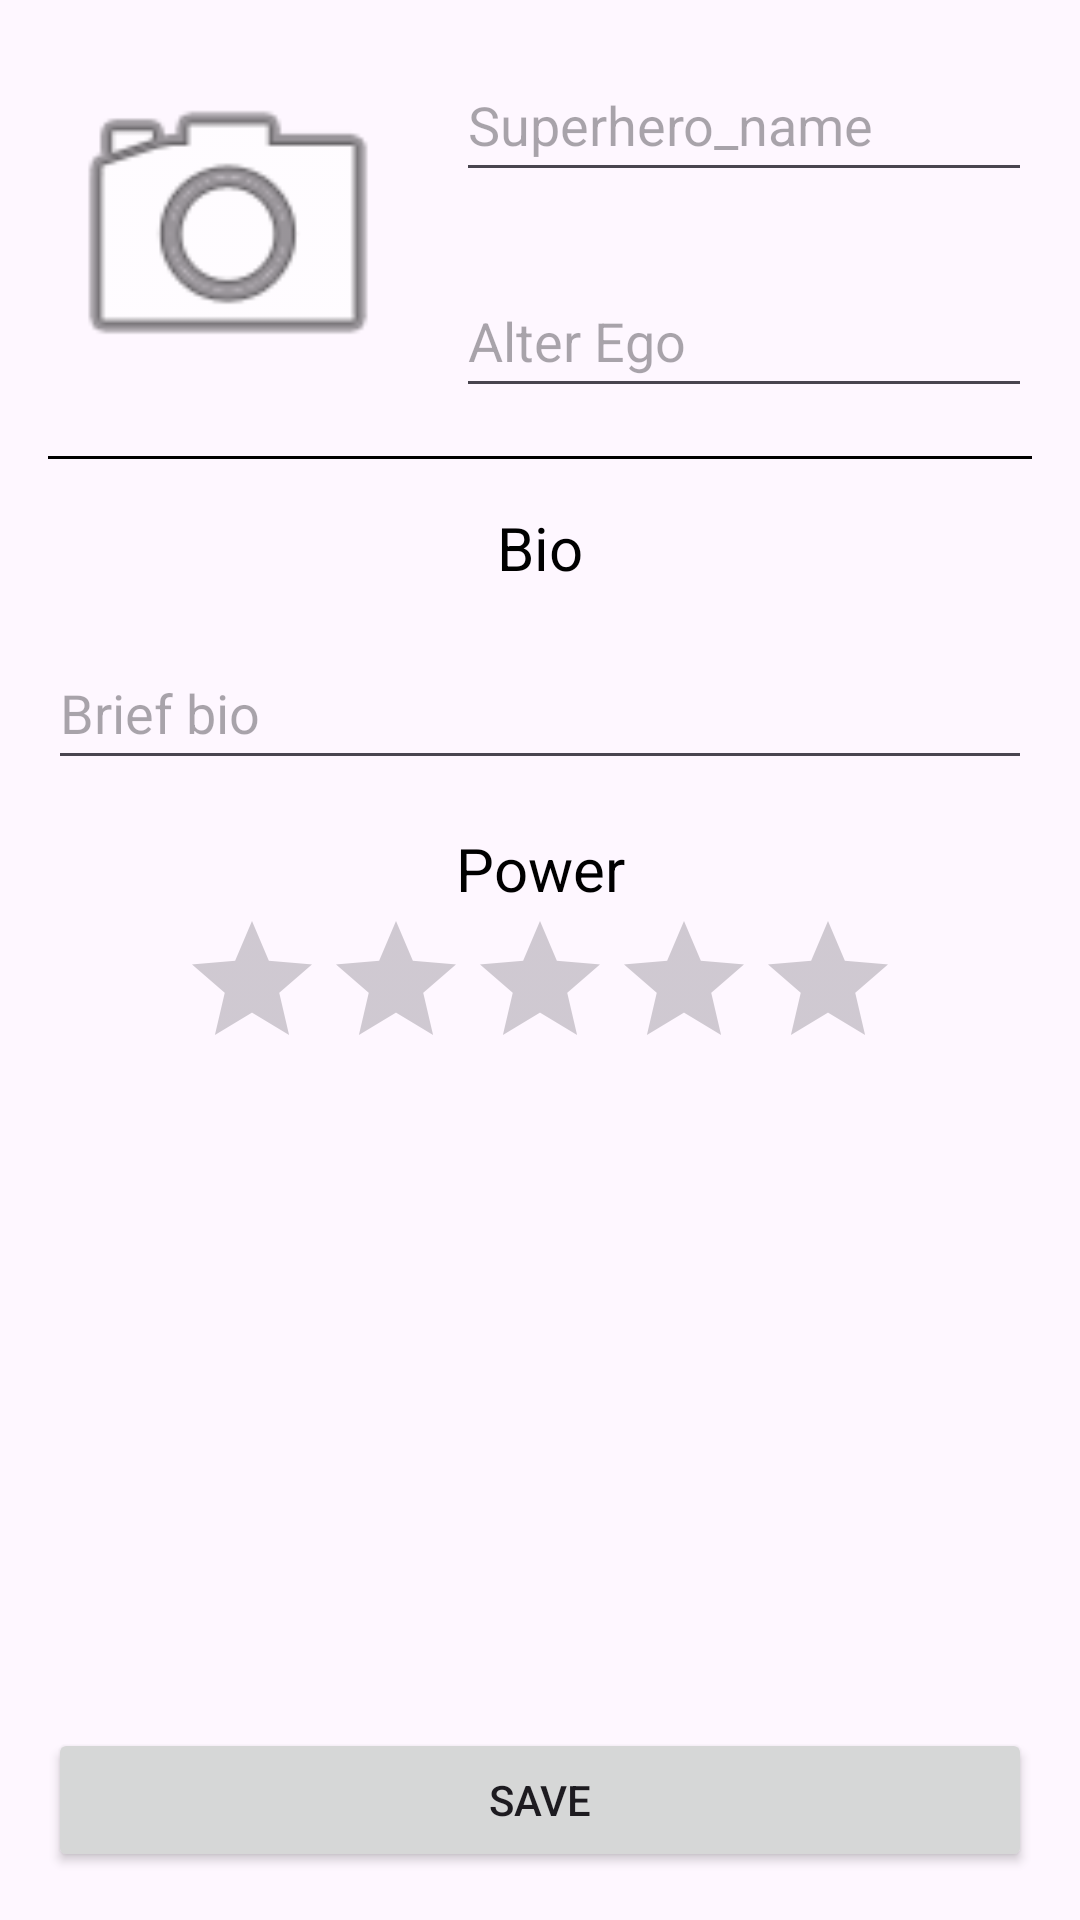

Icon click points for this 1080*1920 phone screenshot, format (x=x, y=y):
camera: (x=228, y=222)
